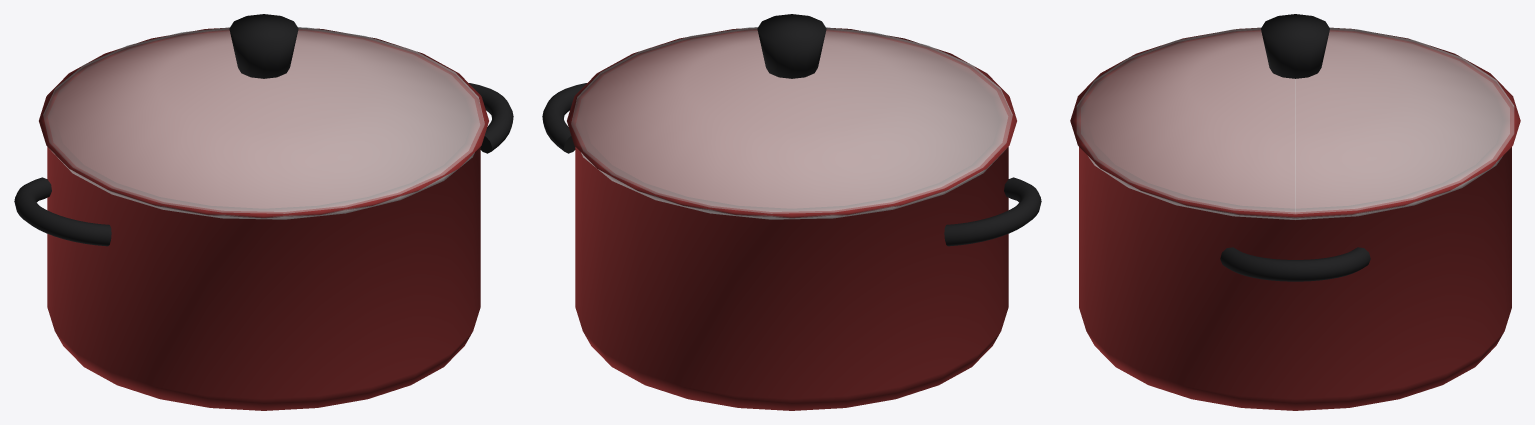
File: i_pot_2.glb
The picture shows the model from 3 angles, left to right: view 1: azimuth 30°, elevation 25°; view 2: azimuth 150°, elevation 25°; view 3: azimuth 270°, elevation 25°; orthographic projection.
Visible parts, largest first — view 1: o, o.003, o.004, o.001, o.002; view 2: o, o.003, o.004, o.001, o.002; view 3: o, o.003, o.004, o.002.
Part boxes in pixels (bbox=[...]): o: bbox=[39, 28, 488, 410]; o.003: bbox=[43, 27, 484, 219]; o.004: bbox=[229, 14, 298, 78]; o.001: bbox=[14, 177, 111, 246]; o.002: bbox=[469, 83, 513, 153]; o: bbox=[567, 28, 1016, 410]; o.003: bbox=[571, 27, 1012, 219]; o.004: bbox=[757, 14, 826, 78]; o.001: bbox=[944, 177, 1041, 246]; o.002: bbox=[542, 83, 586, 153]; o: bbox=[1070, 27, 1520, 410]; o.003: bbox=[1076, 27, 1514, 219]; o.004: bbox=[1261, 14, 1329, 78]; o.002: bbox=[1220, 247, 1370, 281].
Bounding box in the file's own units: 0.2548 × 0.152 × 0.208.
